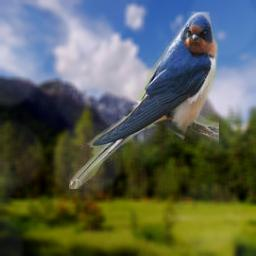Swallow: (69, 11, 219, 189)
